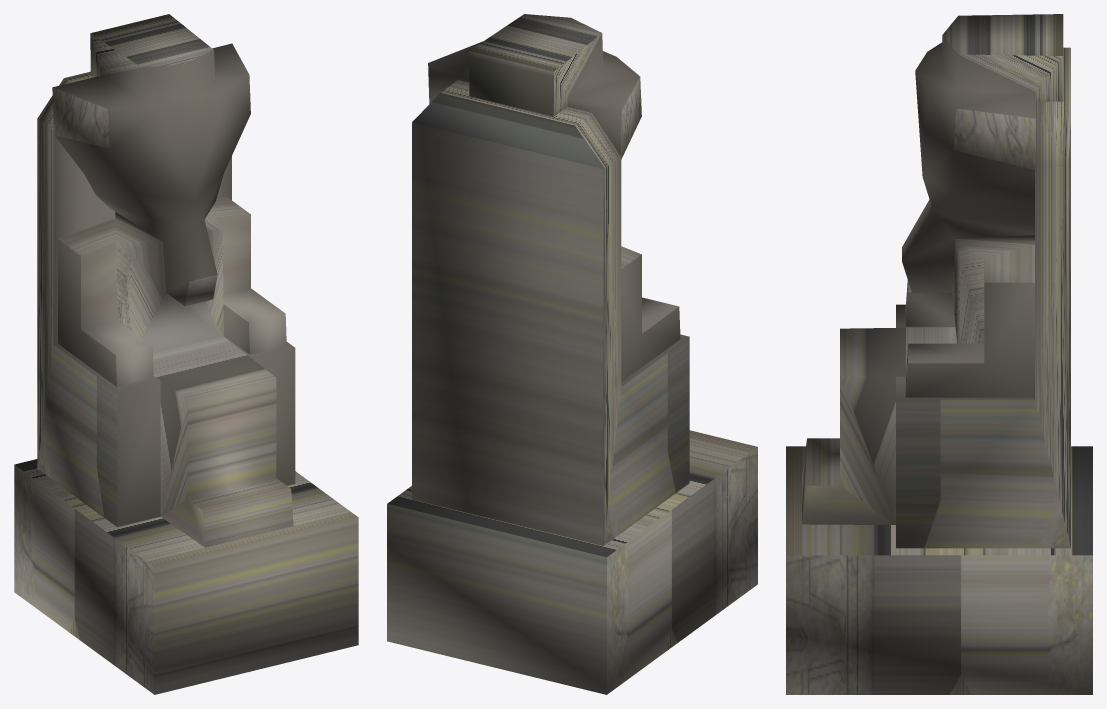
The model's file is sb_obj_ruins002_StoneStatue_col.fbx.
3 views of the same model, side by side, from view 1: azimuth 30°, elevation 25°; view 2: azimuth 150°, elevation 25°; view 3: azimuth 270°, elevation 25° (orthographic). The views are drawn at different scales.
Parts seen in each view (by area): view 1: sb_obj_ruins002_StoneStatue_col; view 2: sb_obj_ruins002_StoneStatue_col; view 3: sb_obj_ruins002_StoneStatue_col.
Boxes of the visible parts, x1,y1,x2,y2 form: sb_obj_ruins002_StoneStatue_col: (14, 14, 358, 694); sb_obj_ruins002_StoneStatue_col: (387, 14, 757, 694); sb_obj_ruins002_StoneStatue_col: (786, 14, 1092, 694).
Bounding box in the file's own units: 2.01 × 5.2 × 2.39.
